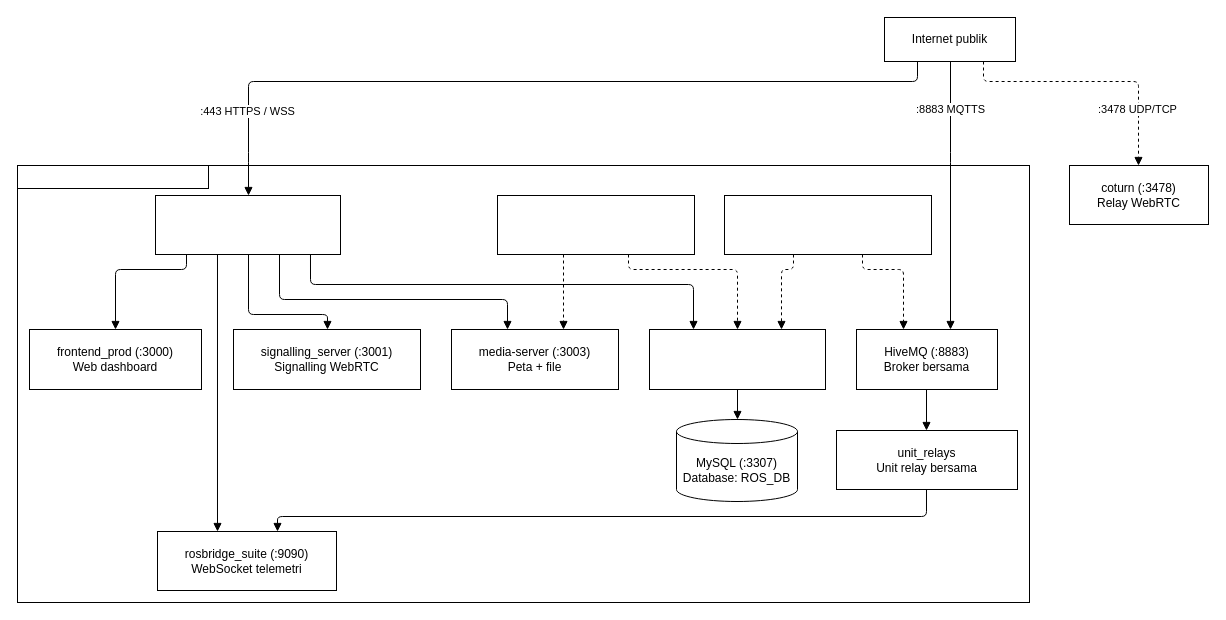
The diagram is 1226 pixels wide and 620 high, and some of its shapes have lost their labels. Here are the shapes that lost their labels. From the top down, the centre of each, then its label:
At point (112, 176): "Stack produksi Docker Compose".
At point (247, 224): "Apache2 Reverse Proxy TLS + routing".
At point (595, 224): "fix_perms_prod (one-shot) Perbaiki owner folder host".
At point (828, 224): "/srv/msd/secrets JWT keyring + keystore TLS".
At point (737, 359): "backend_node (:5000) REST API".
